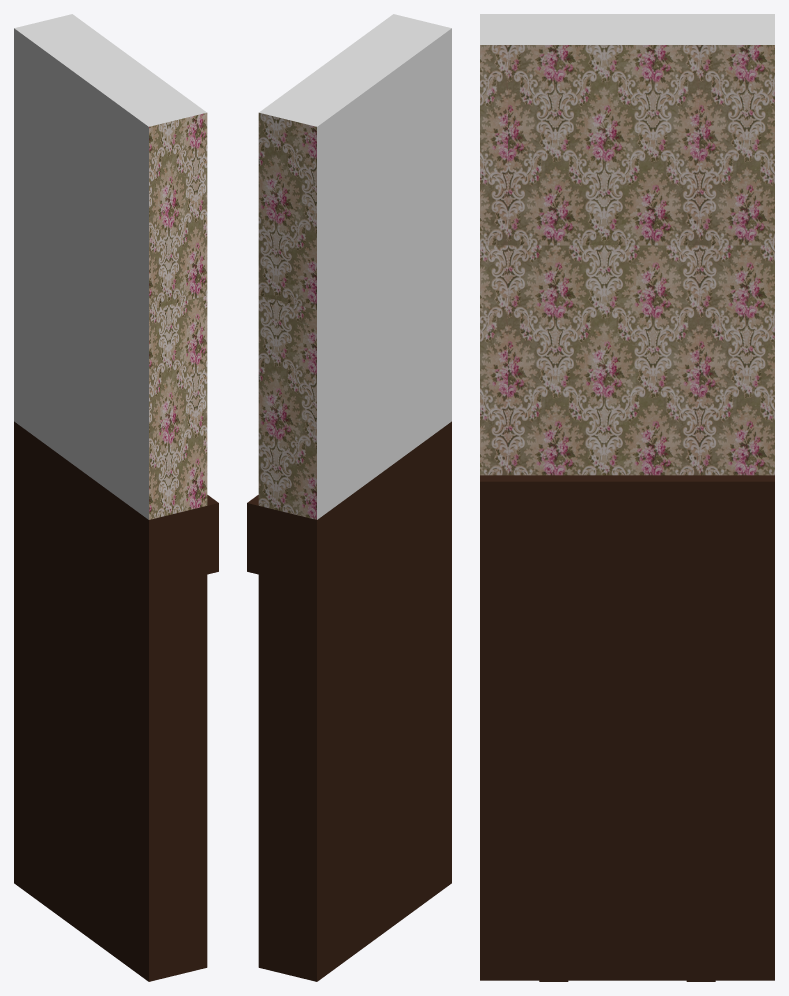
Rendered from Kitchen Wall 2 Y.fbx.
3 renders of one model, left to right at view 1: azimuth 30°, elevation 25°; view 2: azimuth 150°, elevation 25°; view 3: azimuth 270°, elevation 25°, orthographic. The views are drawn at different scales.
Parts seen in each view (by area): view 1: Cube.032; view 2: Cube.032; view 3: Cube.032.
Part boxes in pixels (left/top/right/bottom): Cube.032: left=14, top=14, right=218, bottom=981; Cube.032: left=247, top=14, right=451, bottom=981; Cube.032: left=480, top=14, right=774, bottom=981.
Size of the model in its own units: 60 by 700 by 200.
